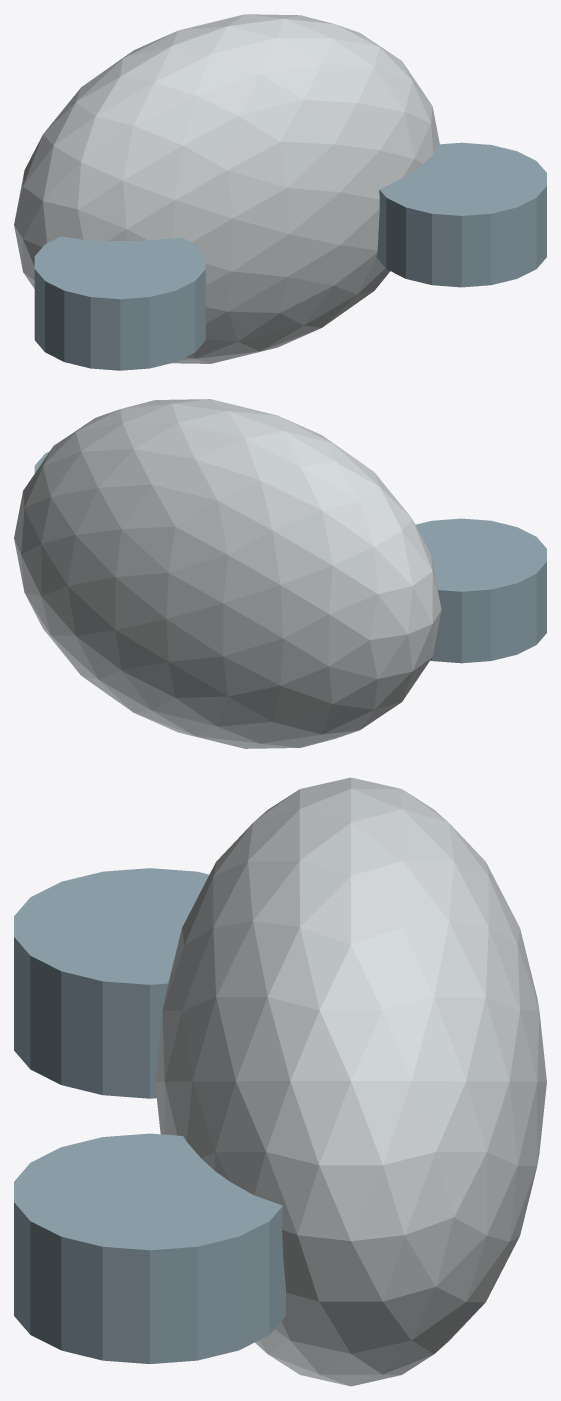
File: respirator_lod0.glb
3 renders of one model, top to bottom at view 1: azimuth 30°, elevation 25°; view 2: azimuth 150°, elevation 25°; view 3: azimuth 270°, elevation 25°, orthographic. The views are drawn at different scales.
Parts seen in each view (by area): view 1: mask, filter-0.25, filter0.25; view 2: mask, filter-0.25; view 3: mask, filter0.25, filter-0.25.
Part boxes in pixels (bbox=[...]): mask: bbox=[14, 14, 439, 363]; filter-0.25: bbox=[34, 236, 205, 370]; filter0.25: bbox=[376, 142, 546, 287]; mask: bbox=[14, 399, 441, 748]; filter-0.25: bbox=[416, 518, 546, 663]; mask: bbox=[155, 777, 546, 1386]; filter0.25: bbox=[14, 1133, 285, 1363]; filter-0.25: bbox=[14, 868, 208, 1098].
Size of the model in its own units: 0.72 by 0.456 by 0.4243.
